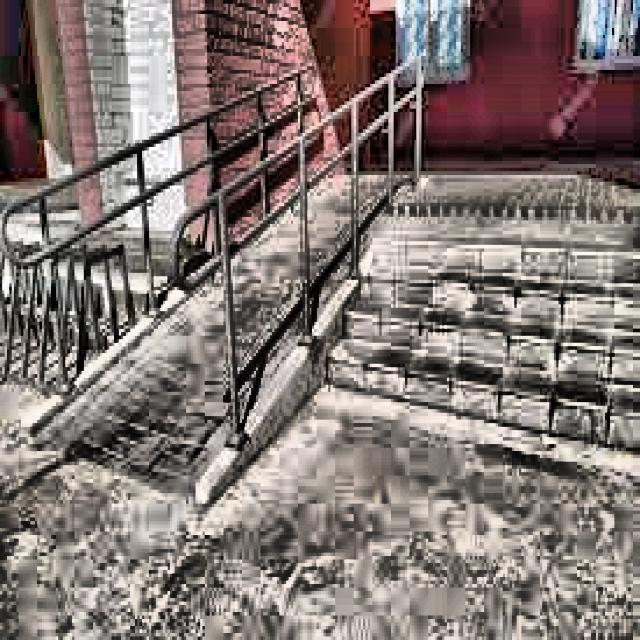escada: (326, 210, 640, 493)
